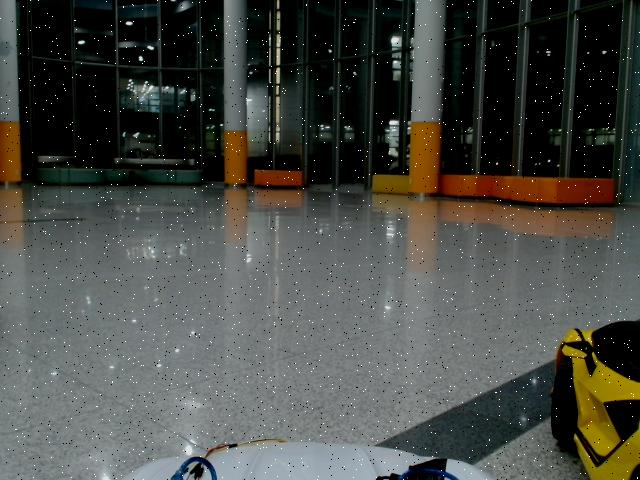car: (551, 319, 640, 480)
